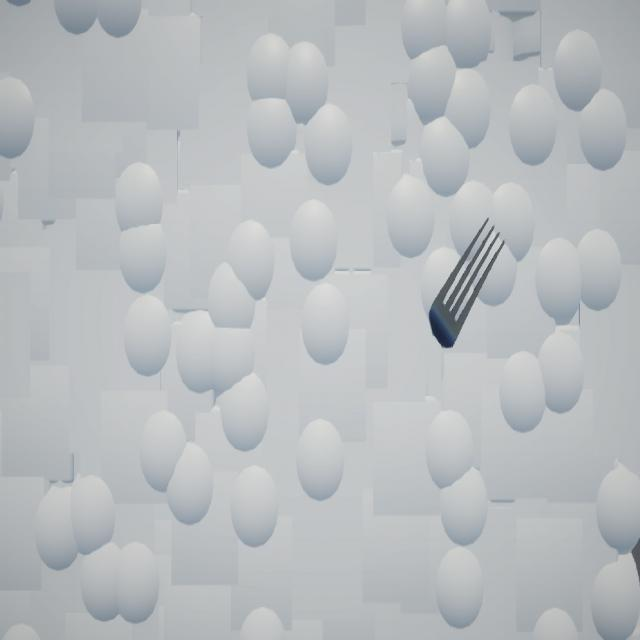top_folk: (430, 218, 506, 350)
